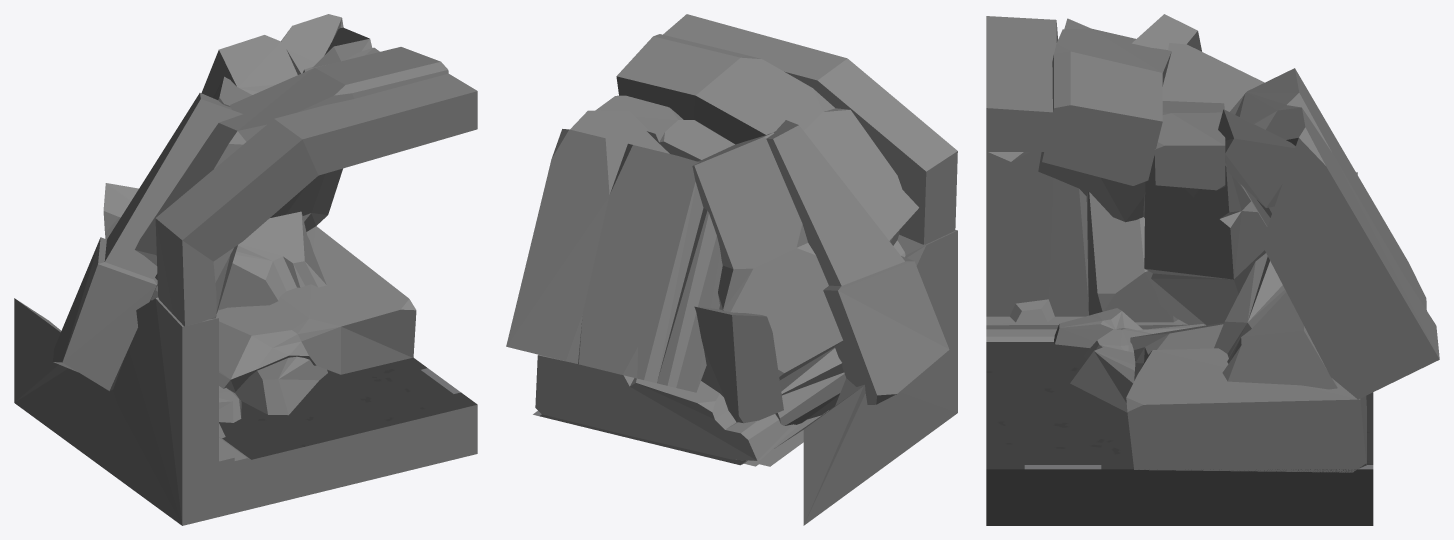
Rendered from SM_Env_Motorway_Tunnel_Destroyed_Left_01.glb.
3 renders of one model, left to right at view 1: azimuth 30°, elevation 25°; view 2: azimuth 150°, elevation 25°; view 3: azimuth 270°, elevation 25°, orthographic. The views are drawn at different scales.
Parts seen in each view (by area): view 1: SM_Env_Motorway_Tunnel_Destroyed_Left_01; view 2: SM_Env_Motorway_Tunnel_Destroyed_Left_01; view 3: SM_Env_Motorway_Tunnel_Destroyed_Left_01.
Part boxes in pixels (left/top/right/bottom): SM_Env_Motorway_Tunnel_Destroyed_Left_01: left=14, top=14, right=477, bottom=525; SM_Env_Motorway_Tunnel_Destroyed_Left_01: left=506, top=14, right=957, bottom=525; SM_Env_Motorway_Tunnel_Destroyed_Left_01: left=986, top=14, right=1439, bottom=525.
Size of the model in its own units: 7.61 by 7.56 by 7.39.
Materials: 1 (1 with a texture image).
